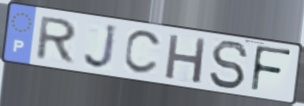C: (122, 29, 164, 77)
F: (248, 44, 294, 95)
H: (163, 32, 209, 86)
J: (82, 23, 119, 71)
R: (33, 15, 80, 65)
S: (208, 39, 251, 91)
